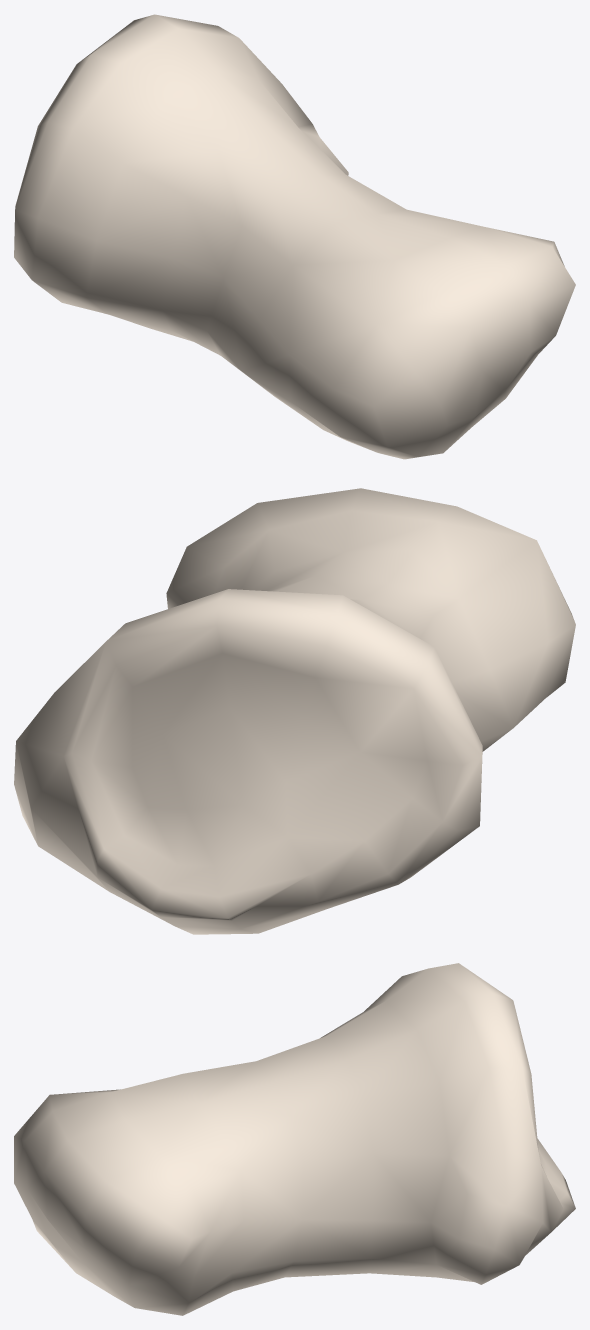
Rendered from left_toe_2_distal.glb.
The picture shows the model from 3 angles, top to bottom: view 1: azimuth 30°, elevation 25°; view 2: azimuth 150°, elevation 25°; view 3: azimuth 270°, elevation 25°; orthographic projection. The views are drawn at different scales.
Visible parts, largest first — view 1: Distal phalanx of second finger of foot.r; view 2: Distal phalanx of second finger of foot.r; view 3: Distal phalanx of second finger of foot.r.
Part boxes in pixels (x1,y1,x2,y2): Distal phalanx of second finger of foot.r: (14,14,575,459); Distal phalanx of second finger of foot.r: (14,488,575,934); Distal phalanx of second finger of foot.r: (14,963,575,1315).
Size of the model in its own units: 0.01 by 0.00729 by 0.0135.
